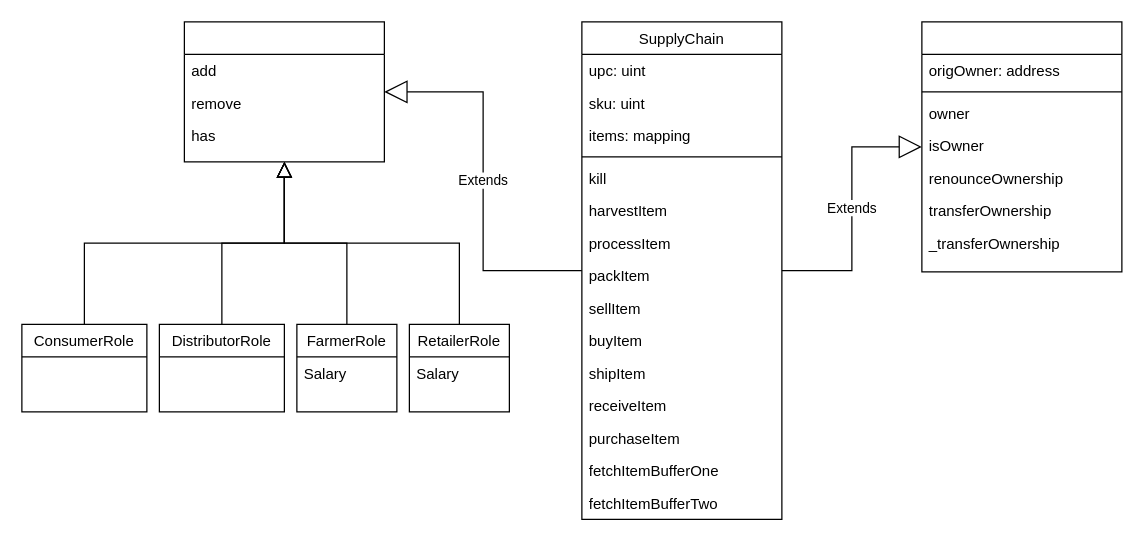
Some shapes in this 1144 by 545 pixel diagram are drawn without their labels. The shapes that lost their labels are listed below. From the top down, each one's box as (x1, y1, x2, y2) in pixels, then its label:
(183, 21, 384, 162): Roles
(921, 21, 1122, 272): Ownable
